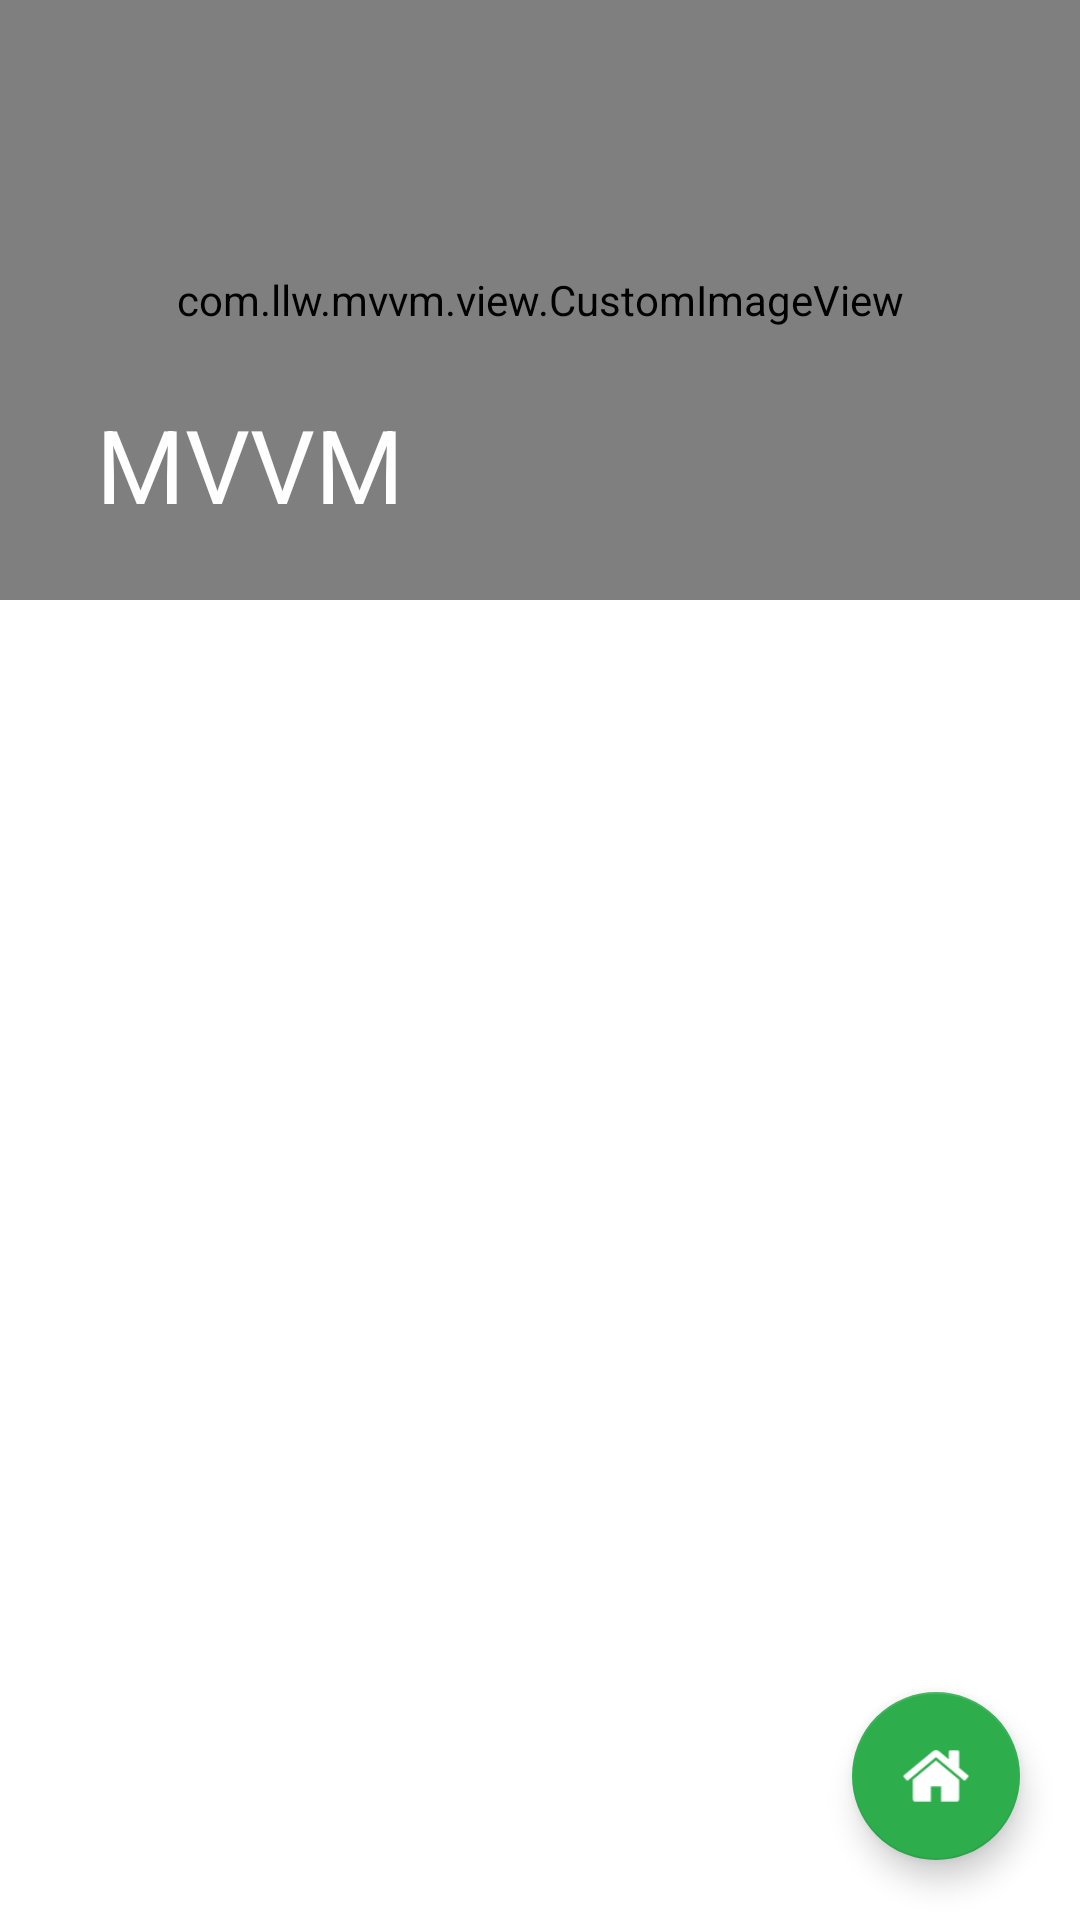

Icons on this 1080x1920 Android screen, each with its box as {"left": x1, "top": y1, "right": x2, "bottom": y2}:
主页: {"left": 852, "top": 1692, "right": 1020, "bottom": 1860}
